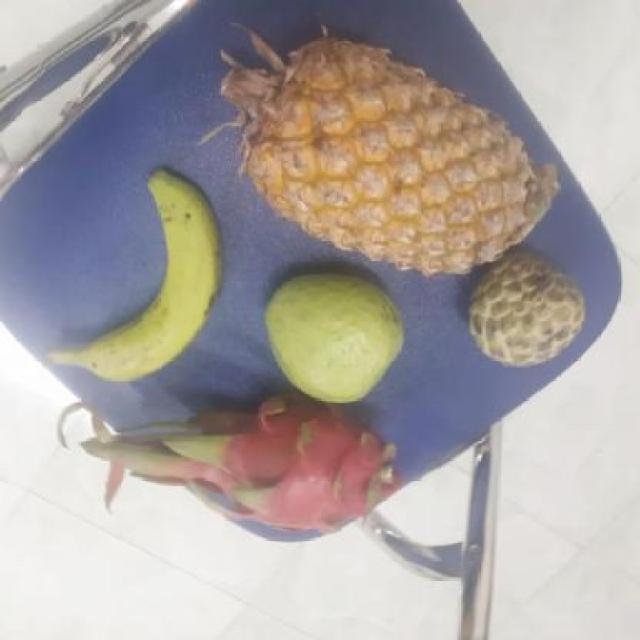banana: (61, 171, 221, 380)
dragon fruit: (185, 397, 400, 541)
guava: (261, 274, 404, 400)
pineapple: (225, 44, 542, 274)
sugar apple: (456, 248, 589, 366)
